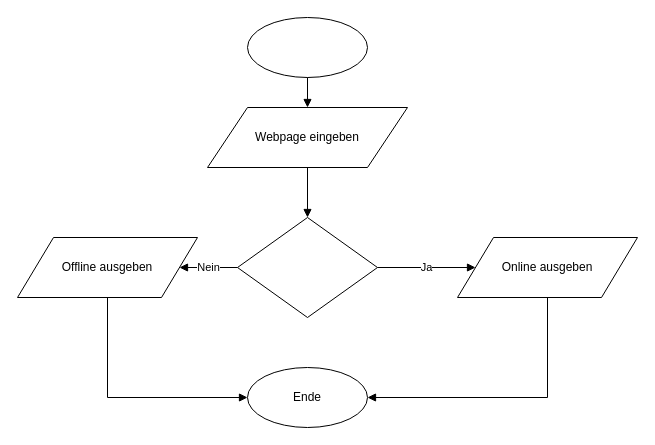
The diagram is 655 pixels wide and 445 high, and some of its shapes have lost their labels. Each missing label, with the box of its shape:
Ping erfolgreich?: (236, 216, 378, 318)
Start: (246, 16, 368, 78)
